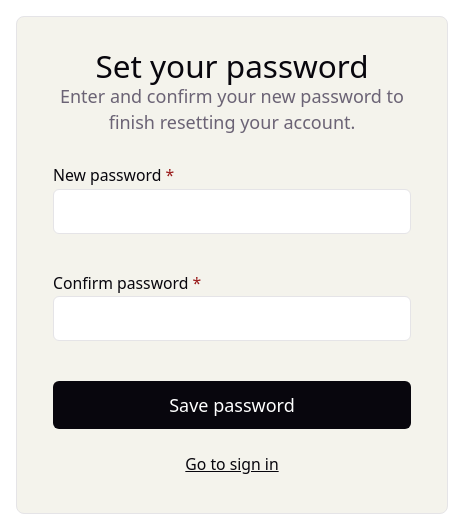
ChangePasswordPage › blocks submit when passwords do not match
Type "validpass1" into the password field labelled "New password *" at (232, 211), box [53, 188, 411, 234]
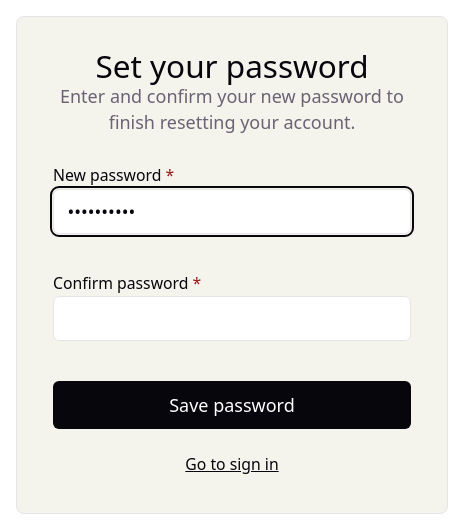
Type "validpass2" into the password field labelled "Confirm password *" at (232, 318), box [53, 296, 411, 341]
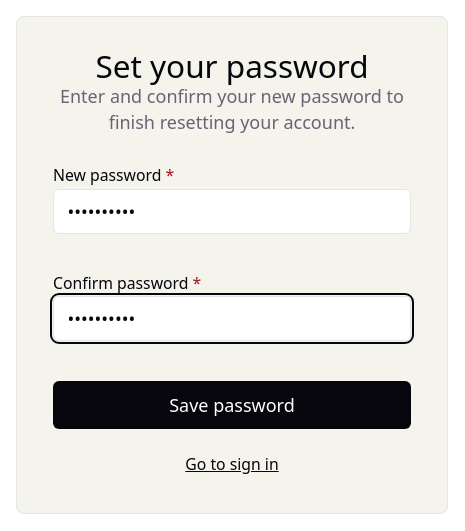
Click the button "Save password" at (232, 405), box [53, 381, 411, 429]
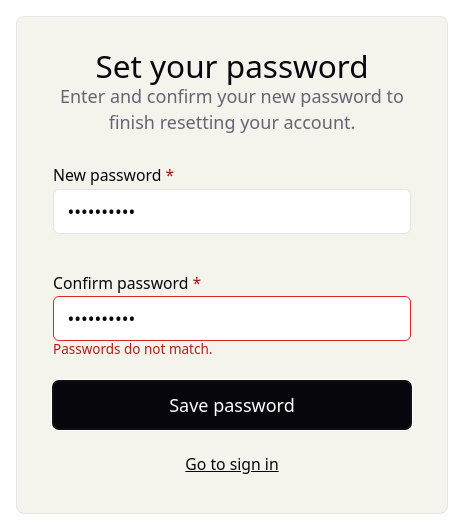
Expected: the text "Passwords do not match." is shown, [53, 340, 212, 358]
